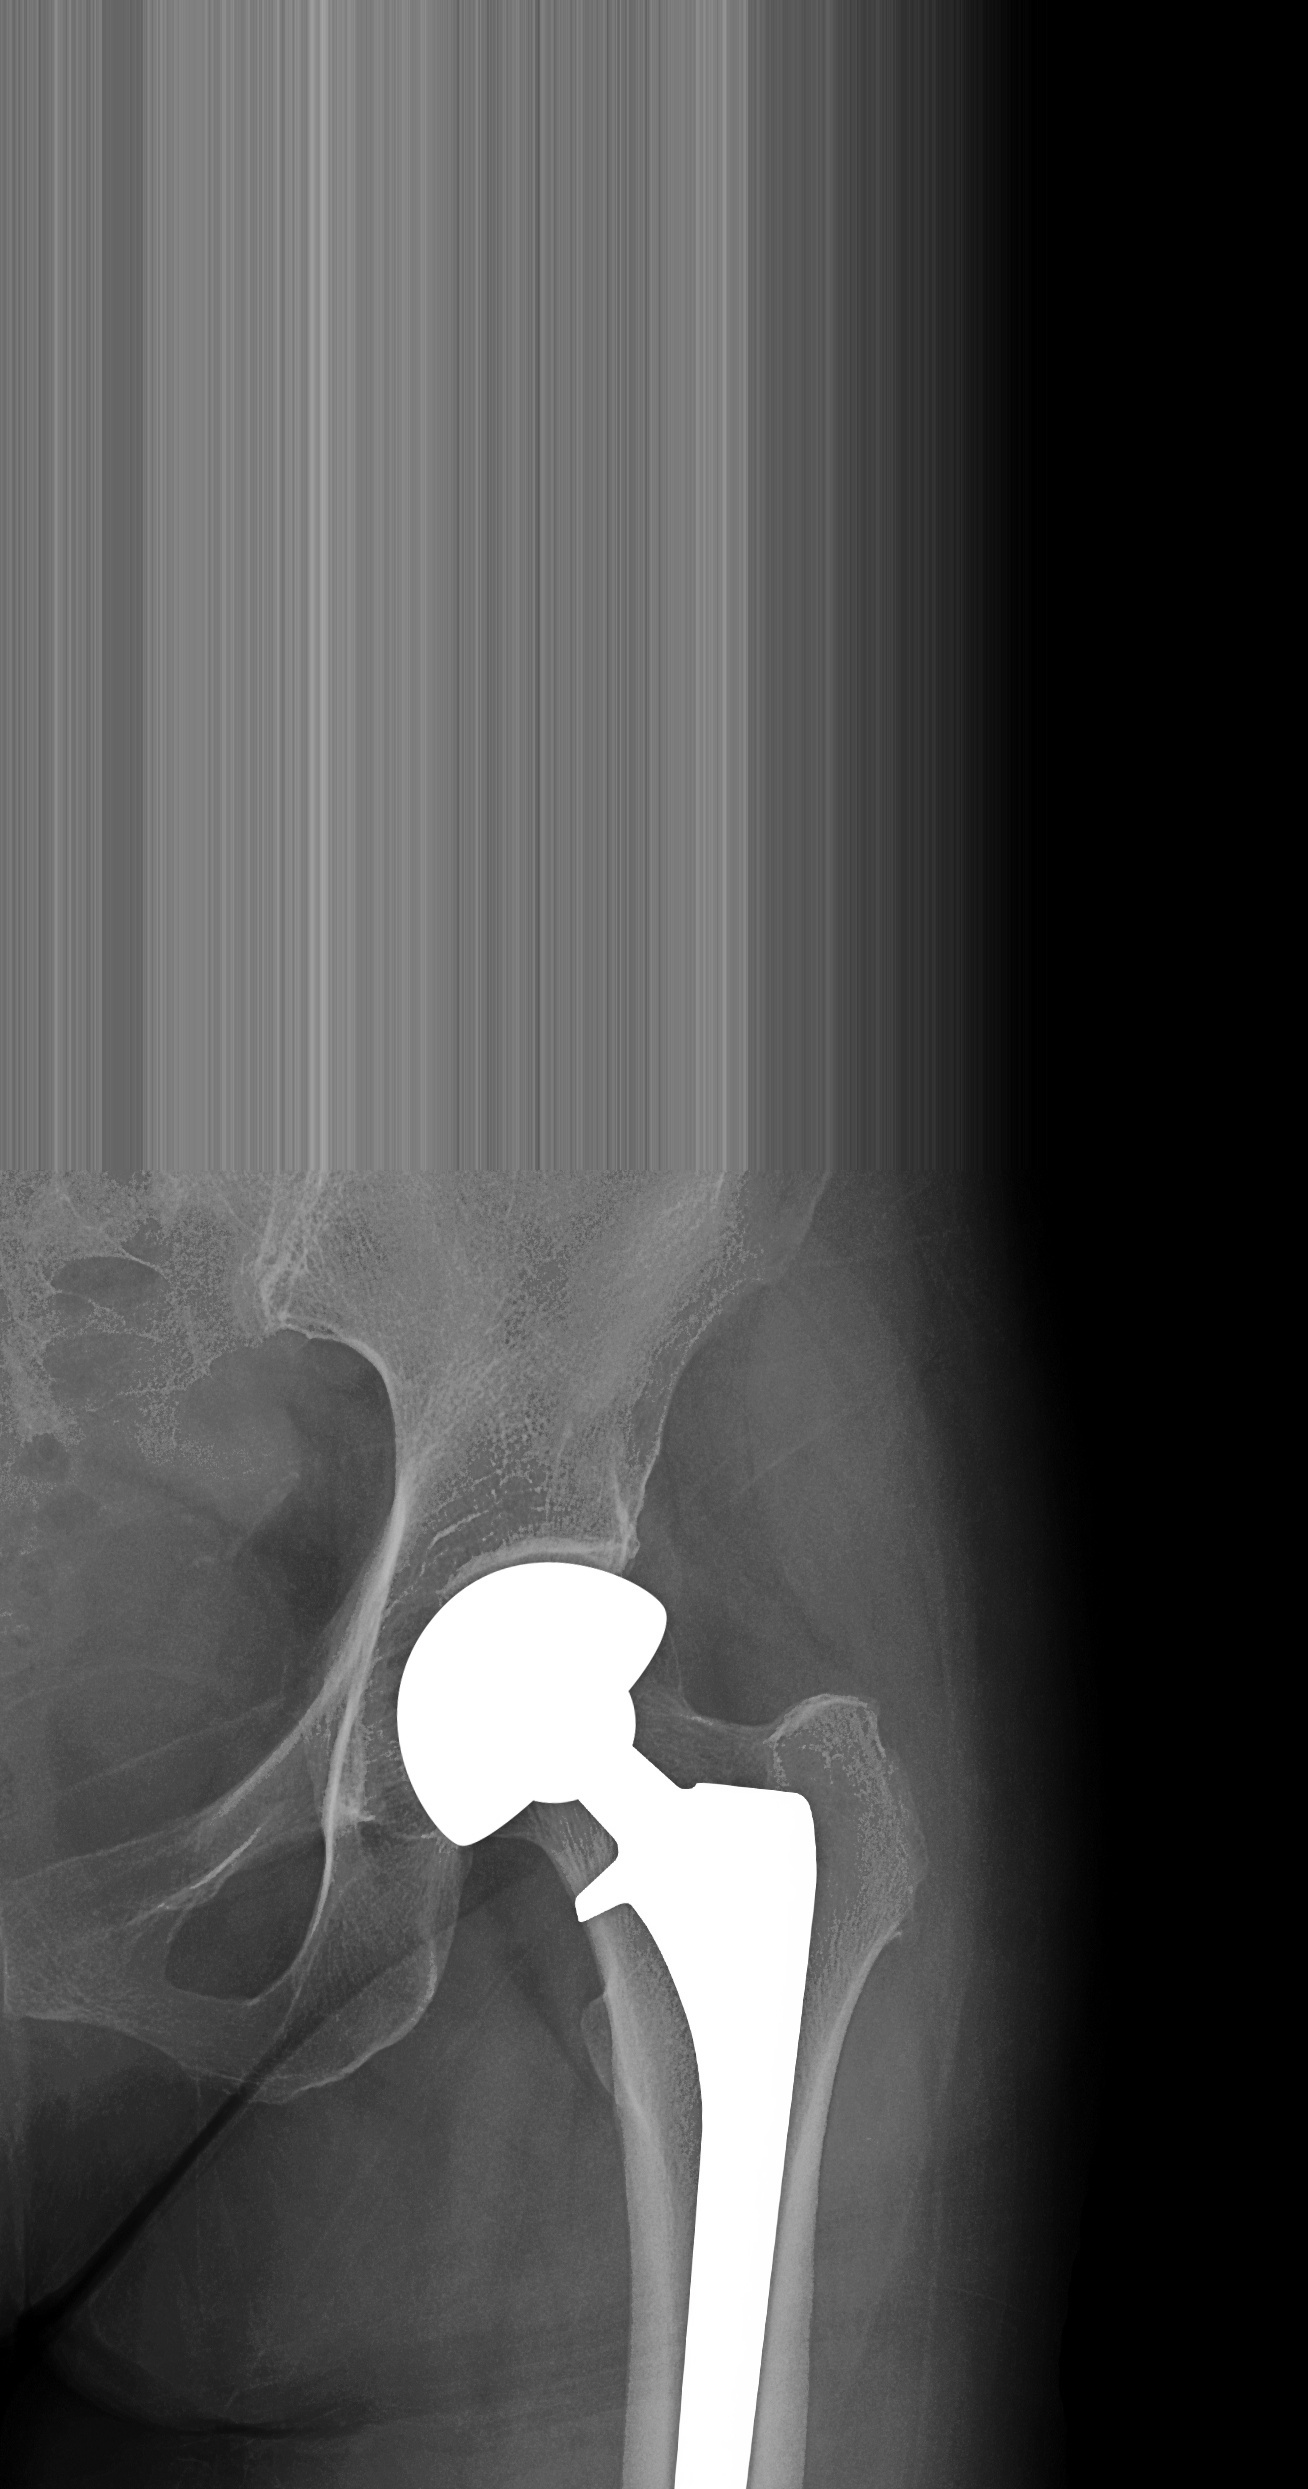Hip - APR - Zimmer: (390, 1534, 828, 2489)
